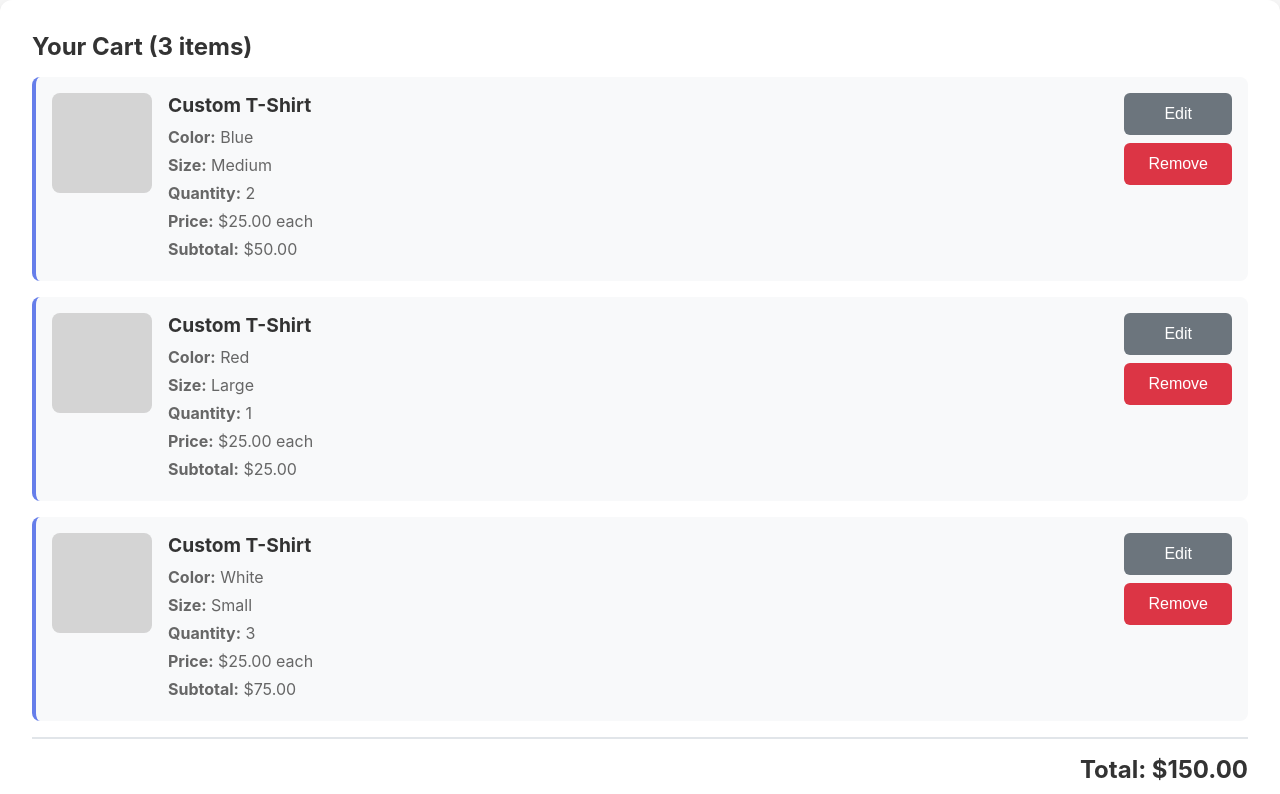
Test: Cart Component › Cart Item Management › should allow editing items
Note: Find and click edit button for first item
Click the button "Edit" in the row of "Blue" at (1178, 114), box [1124,93,1232,135]
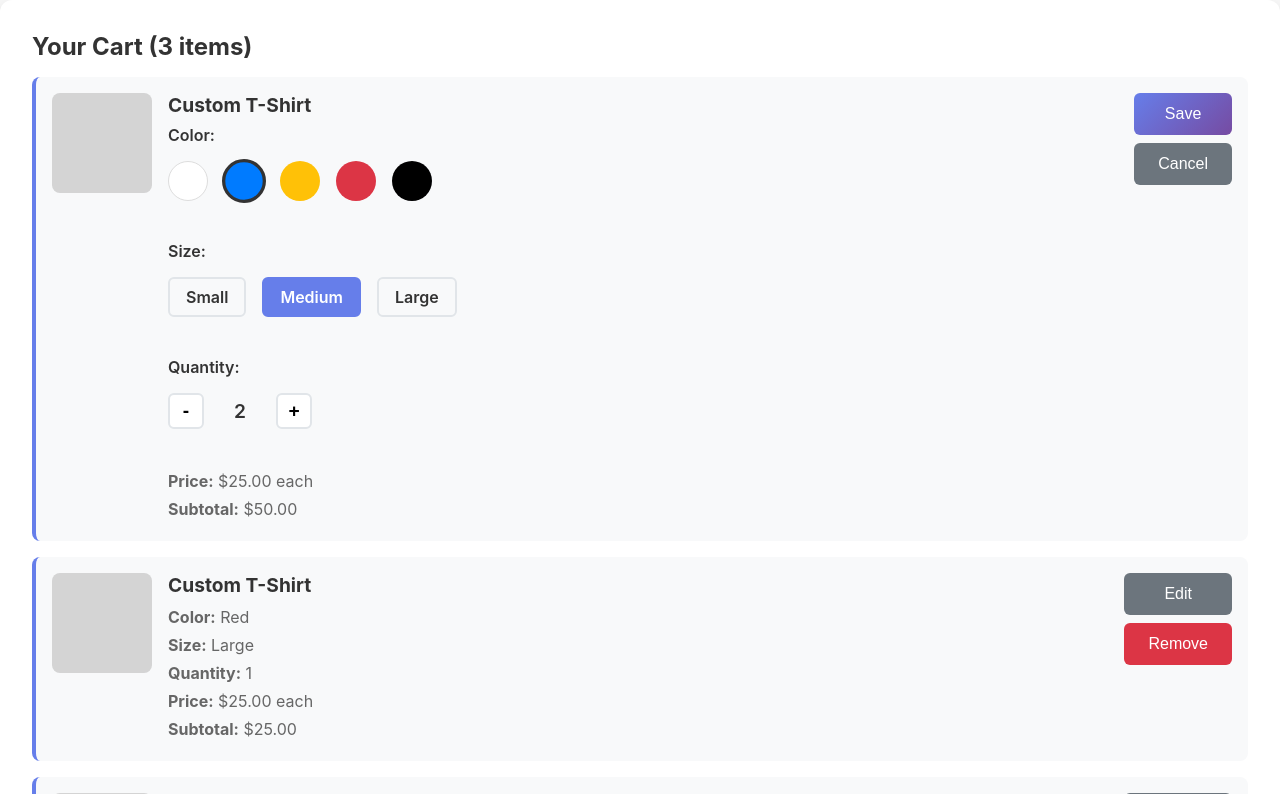
Check: the button "Save" is shown, box [1134,93,1232,135]
Check: the button "Cancel" is shown, box [1134,143,1232,185]
